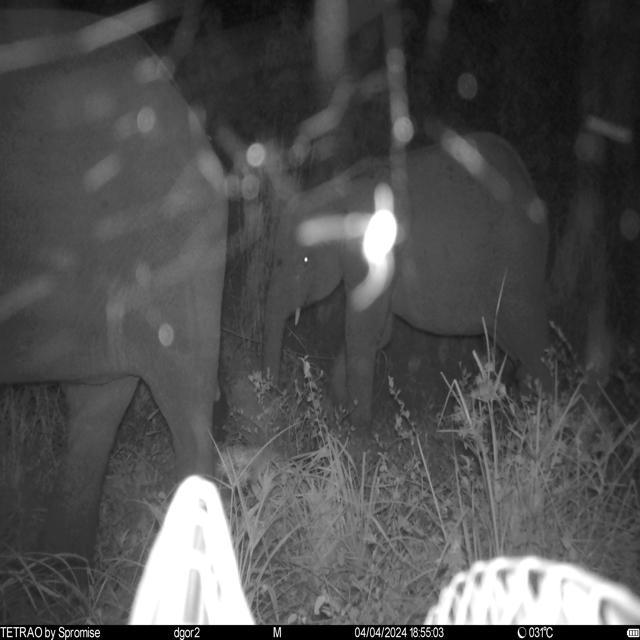calf: (257, 132, 559, 428)
elephant: (0, 2, 230, 606)
tusk: (292, 306, 304, 326)
